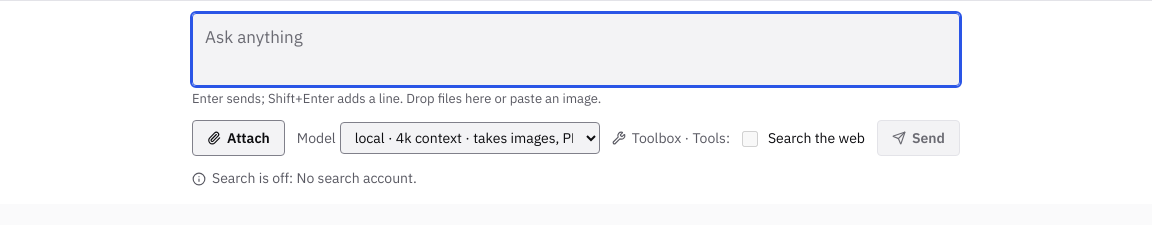
Scenario: the hint and the draft › says a draft that cannot be kept in a warning that is never hidden, on any screen
The image size is (1152, 225).
Type "hi" into the text box with test id "composer" at (576,50), box [192,13,960,86]
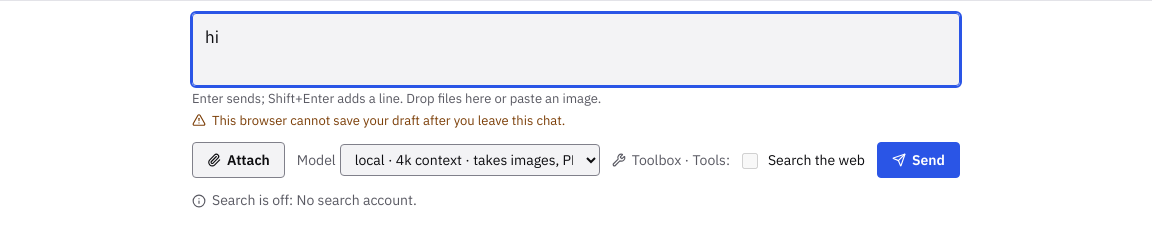
Expected: the element with id "composer-hint" does not show "cannot save"
Result: the element with test id "draft-lost" reads "This browser cannot save your draft after you leave this chat." at [212,112,565,129]
